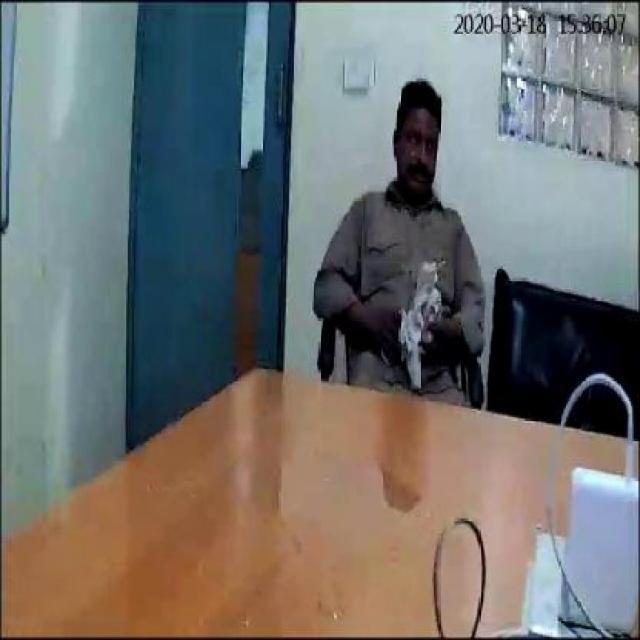spill: (264, 444, 434, 624)
